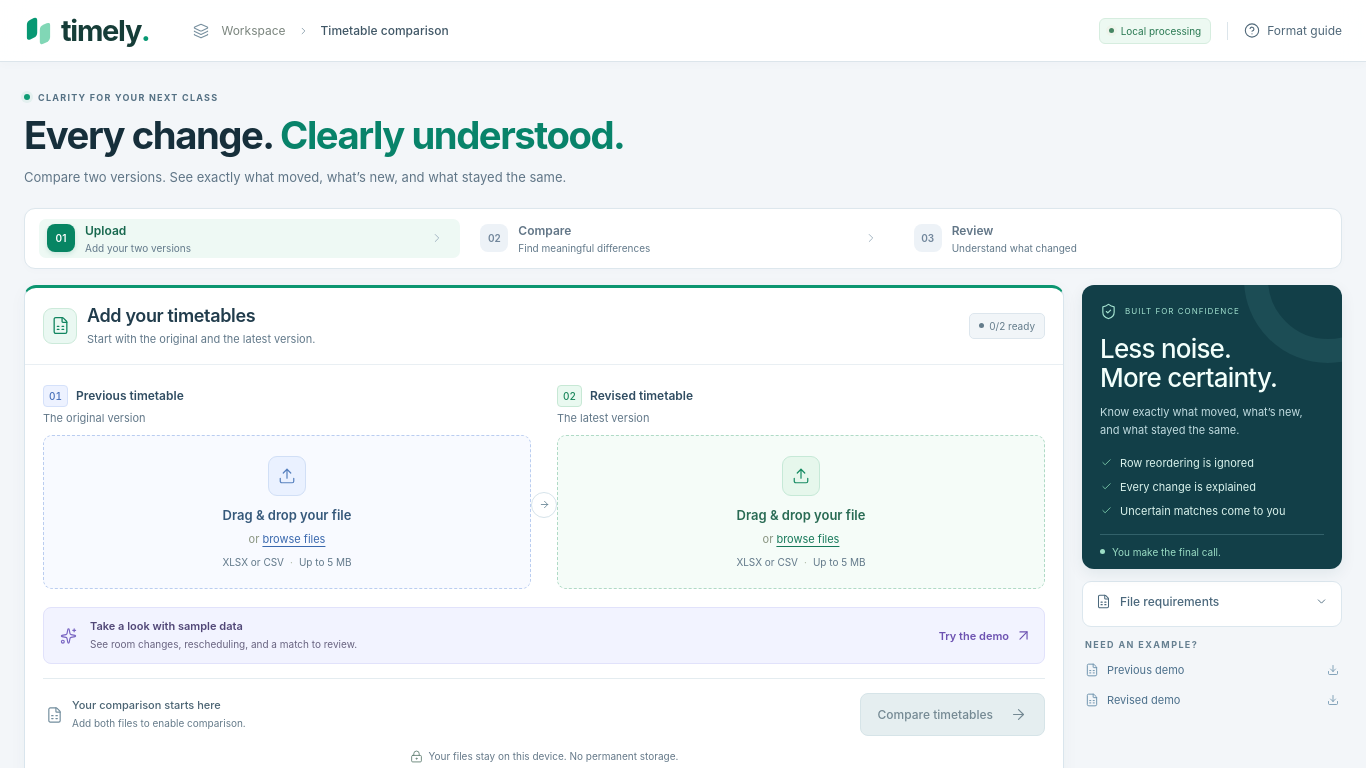
Test case: Timely user flows › clears all filters and restores the full change list
The width and height of the screenshot is (1366, 768).
Click the button "Try the demo" at (985, 636), box [939,620,1032,652]
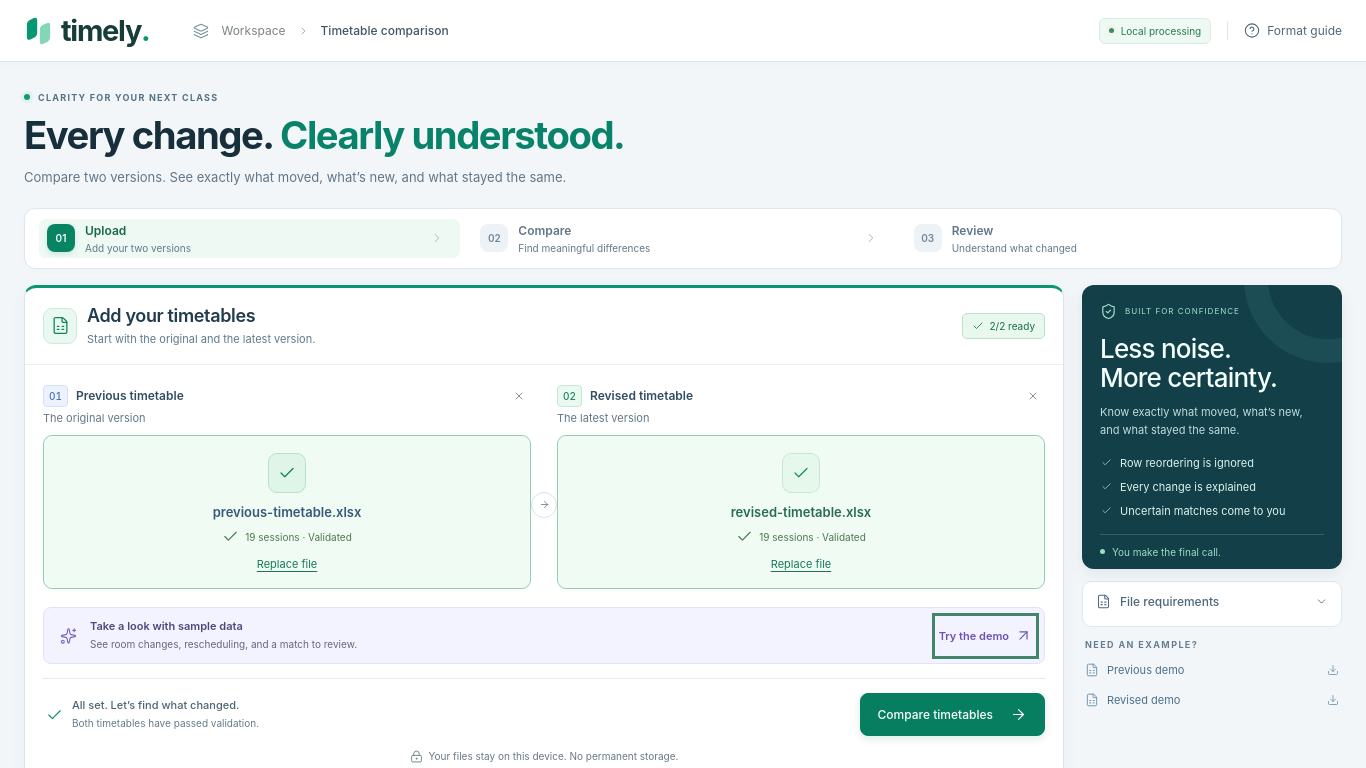
Click the button "Compare timetables" at (952, 714), box [860,693,1045,736]
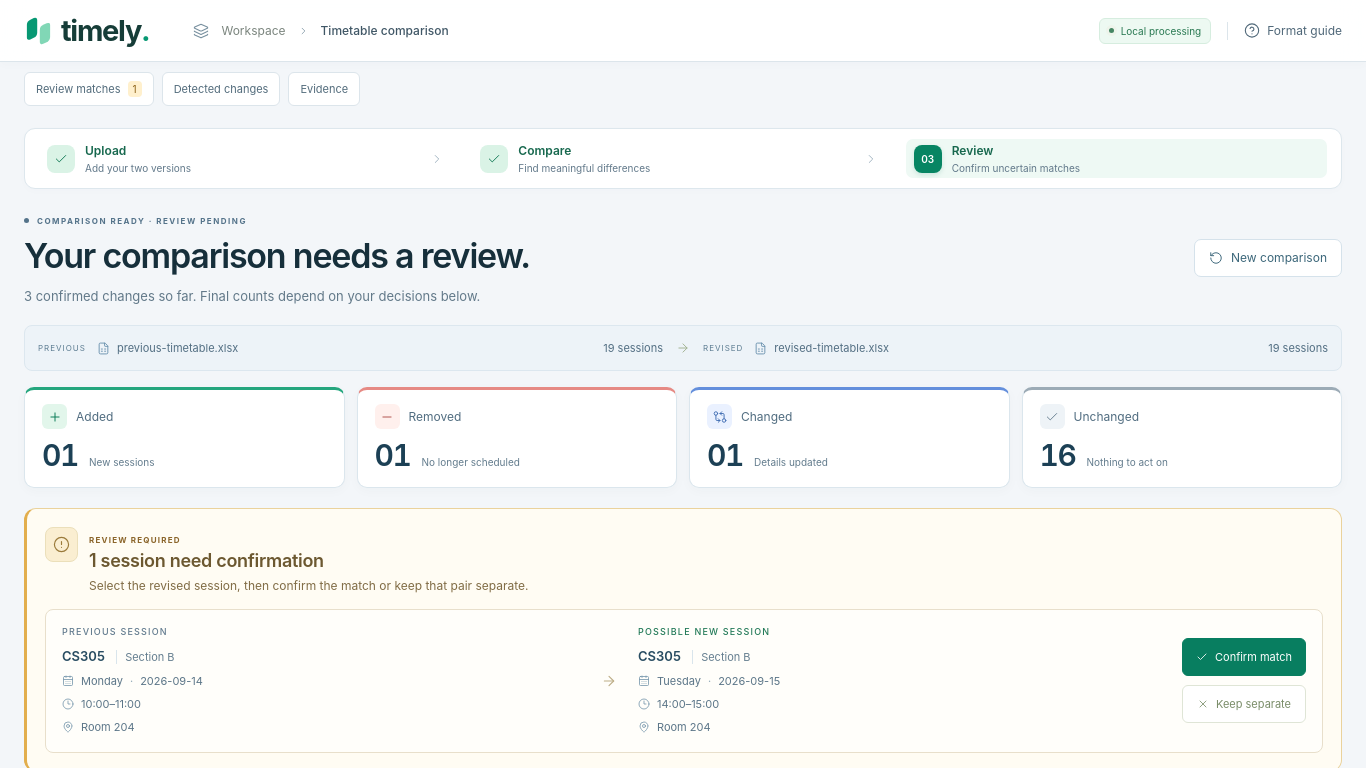
expect the heading "Your comparison needs a review." is shown: met, box [24,235,530,277]
Click the button "Confirm match" at (1244, 657), box [1182,638,1306,676]
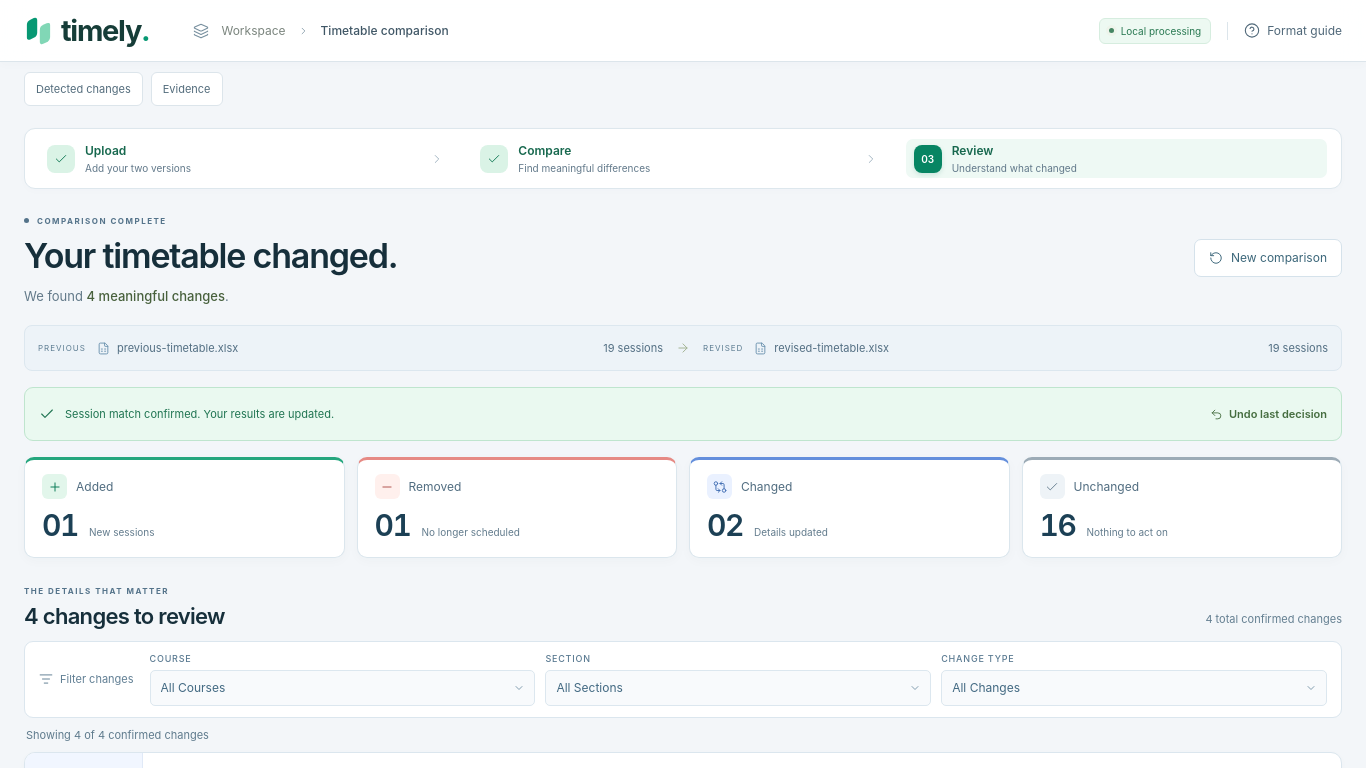
Select "CS201" in the dropdown labelled "Course" at (342, 688), box [150,670,535,706]
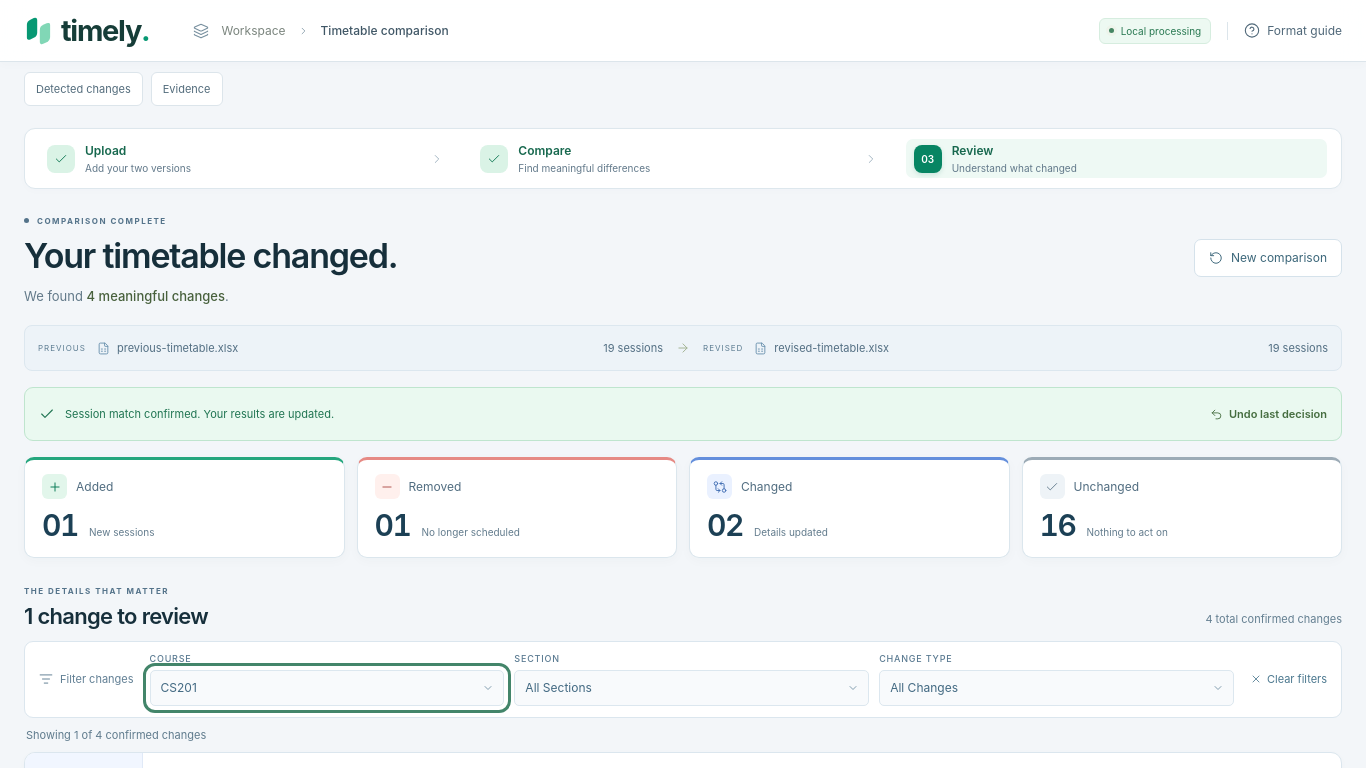
expect the text "Showing 1 of 4 confirmed changes" is shown: met, box [26,728,206,742]
Click the button "Clear filters" at (1288, 679), box [1250,662,1327,697]
(page scrolled)
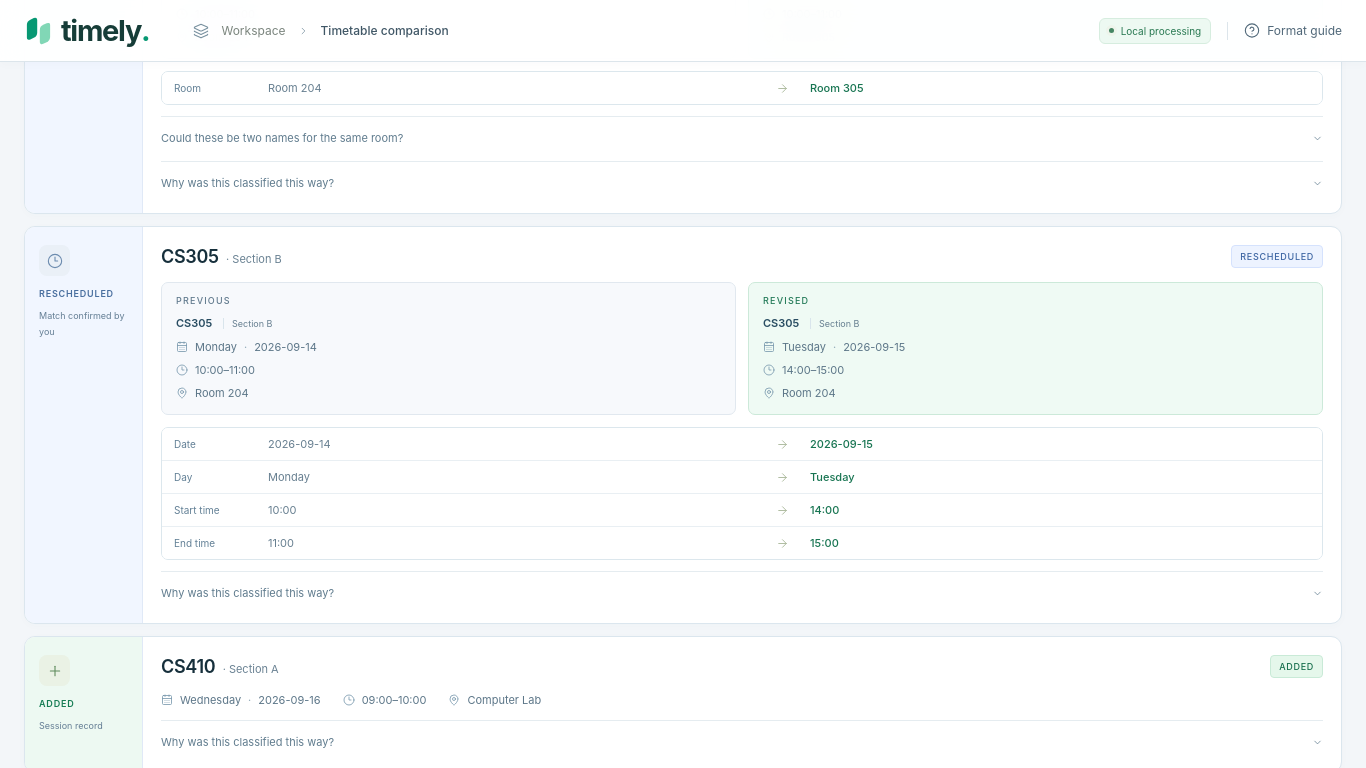
expect the element named "CS305 RESCHEDULED" is shown: met, box [24,226,1342,624]
expect the button "Clear filters" is gone: met
